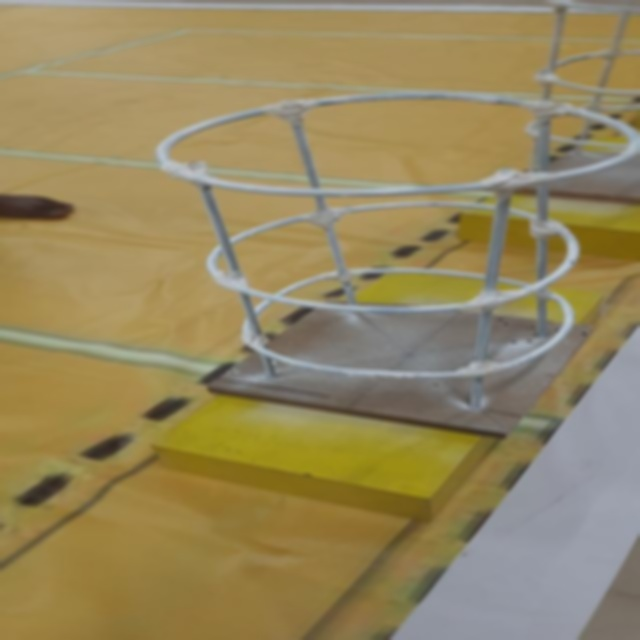silo: (135, 82, 640, 468)
